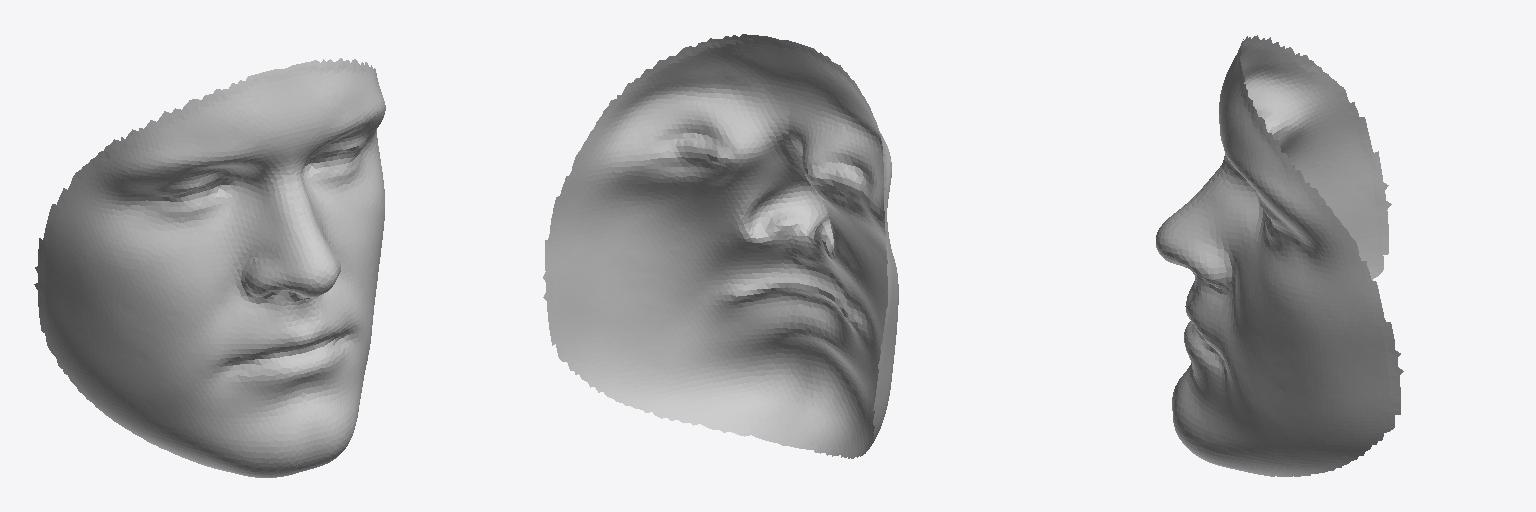
Rendered from SIMPOP_16.obj.
3 renders of one model, left to right at view 1: azimuth 30°, elevation 25°; view 2: azimuth 150°, elevation 25°; view 3: azimuth 270°, elevation 25°, orthographic.
Visible parts, largest first — view 1: SIMPOP_16; view 2: SIMPOP_16; view 3: SIMPOP_16.
Boxes of the visible parts, <box> form: SIMPOP_16: <box>34,58,385,477</box>; SIMPOP_16: <box>543,34,898,458</box>; SIMPOP_16: <box>1156,35,1403,476</box>.
Size of the model in its own units: 144 by 165 by 92.71.